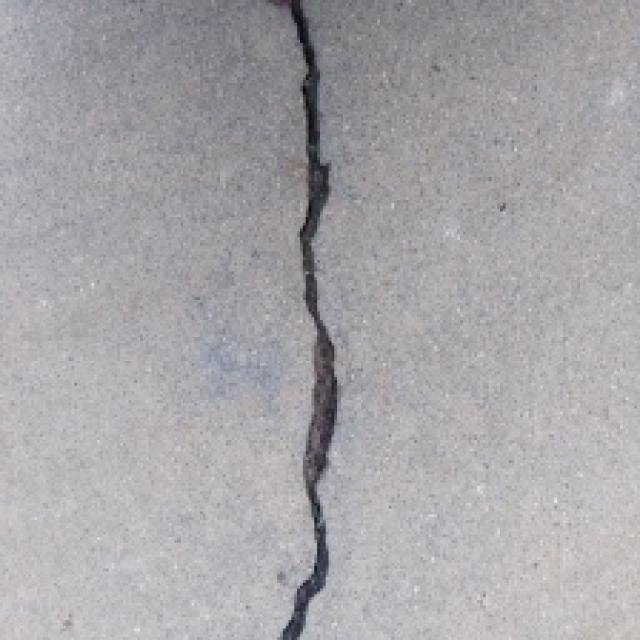crack: (250, 0, 360, 636)
